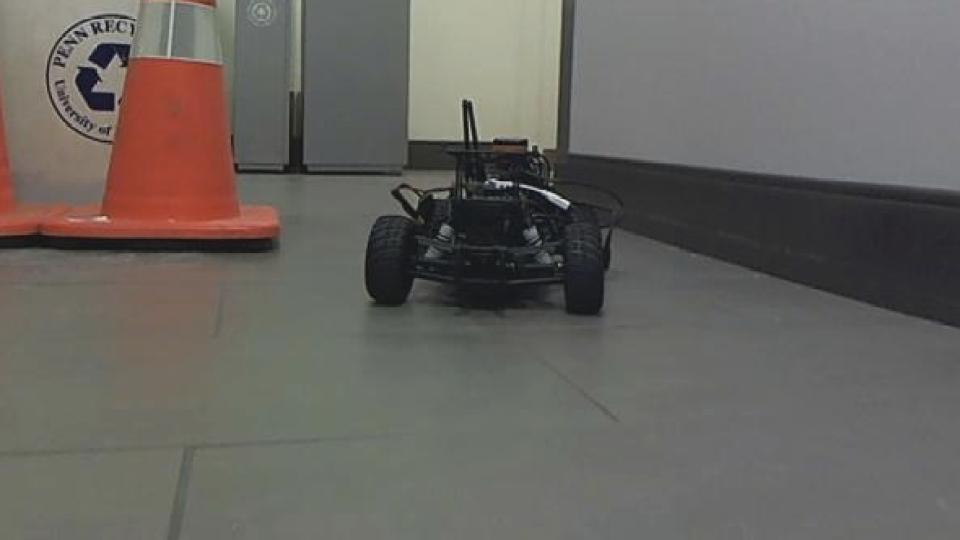car: (360, 97, 626, 318)
